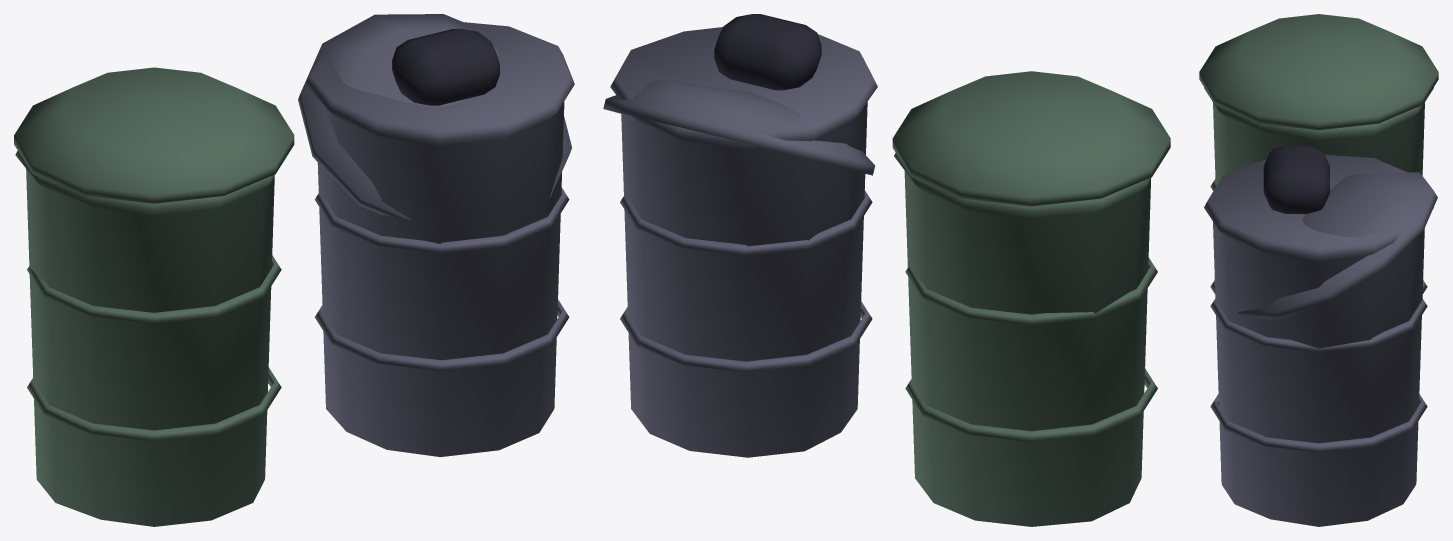
File: trash_bins.glb
3 renders of one model, left to right at view 1: azimuth 30°, elevation 25°; view 2: azimuth 150°, elevation 25°; view 3: azimuth 270°, elevation 25°, orthographic. The views are drawn at different scales.
Visible parts, largest first — view 1: trash_bins, lid; view 2: trash_bins, lid; view 3: trash_bins, lid.
Part boxes in pixels (x1,y1,x2,y2): trash_bins: [14, 21, 574, 526]; lid: [298, 14, 571, 219]; trash_bins: [610, 14, 1170, 526]; lid: [603, 80, 875, 175]; trash_bins: [1199, 14, 1438, 526]; lid: [1238, 172, 1437, 319].
Size of the model in its own units: 1.18 by 0.81 by 0.54.
